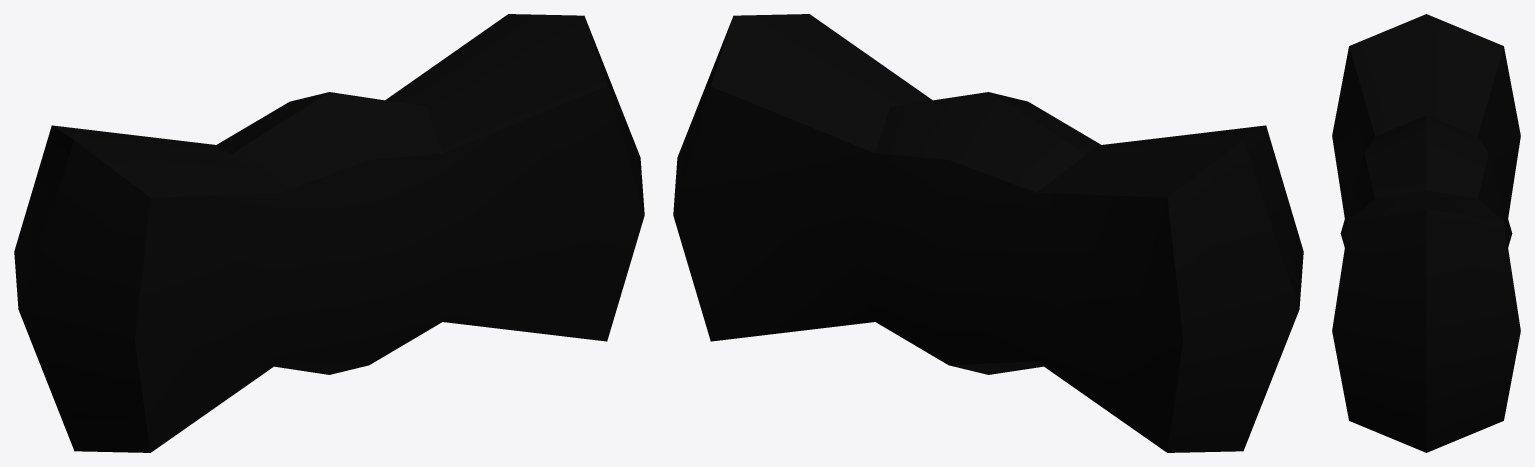
Rendered from Body_Prop_Cooking_Bow_Tie_01_C03.fbx.
3 views of the same model, side by side, from view 1: azimuth 30°, elevation 25°; view 2: azimuth 150°, elevation 25°; view 3: azimuth 270°, elevation 25° (orthographic). The views are drawn at different scales.
Parts seen in each view (by area): view 1: Body_Prop_Cooking_Bow_Tie_01_C03; view 2: Body_Prop_Cooking_Bow_Tie_01_C03; view 3: Body_Prop_Cooking_Bow_Tie_01_C03.
Part boxes in pixels (x1,y1,x2,y2): Body_Prop_Cooking_Bow_Tie_01_C03: [14, 14, 644, 452]; Body_Prop_Cooking_Bow_Tie_01_C03: [673, 14, 1303, 452]; Body_Prop_Cooking_Bow_Tie_01_C03: [1332, 14, 1520, 452].
Size of the model in its own units: 41.68 by 19.92 by 13.98.
